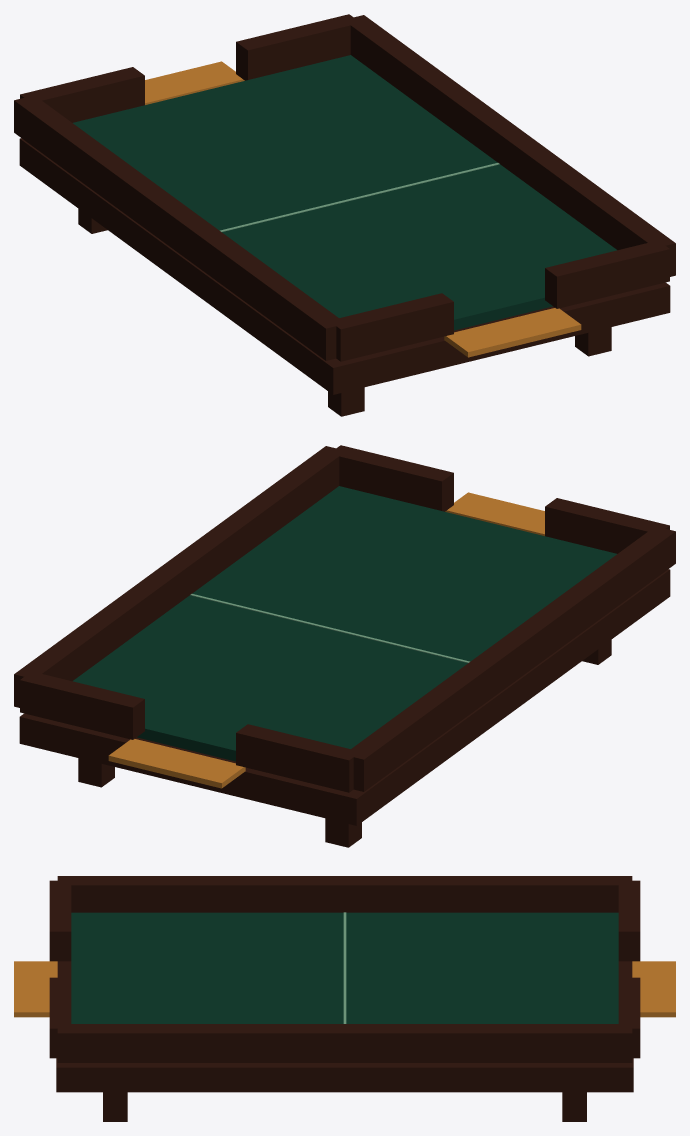
The model's file is FeltHockeyTable.obj.
3 views of the same model, one above another, from view 1: azimuth 30°, elevation 25°; view 2: azimuth 150°, elevation 25°; view 3: azimuth 270°, elevation 25° (orthographic). The views are drawn at different scales.
Parts seen in each view (by area): view 1: Felt_playing_surface, Long_cushioned_rail, Split_goal_rail, Walnut_cabinet, Goal_tray, Tapered_table_leg, Centre_stripe; view 2: Felt_playing_surface, Long_cushioned_rail, Split_goal_rail, Walnut_cabinet, Goal_tray, Tapered_table_leg, Centre_stripe; view 3: Felt_playing_surface, Long_cushioned_rail, Walnut_cabinet, Split_goal_rail, Goal_tray, Tapered_table_leg, Centre_stripe.
Boxes of the visible parts, box(x1,y1,x2,y2) form: Felt_playing_surface: box(73, 55, 616, 330); Long_cushioned_rail: box(14, 15, 675, 360); Split_goal_rail: box(20, 14, 669, 361); Walnut_cabinet: box(19, 138, 670, 394); Goal_tray: box(145, 61, 581, 357); Tapered_table_leg: box(78, 208, 611, 416); Centre_stripe: box(220, 163, 499, 231); Felt_playing_surface: box(73, 486, 616, 761); Long_cushioned_rail: box(14, 446, 675, 791); Split_goal_rail: box(20, 445, 669, 792); Walnut_cabinet: box(19, 569, 670, 825); Goal_tray: box(108, 492, 544, 788); Tapered_table_leg: box(78, 639, 611, 847); Centre_stripe: box(190, 594, 469, 662); Felt_playing_surface: box(71, 912, 618, 1023); Long_cushioned_rail: box(57, 876, 632, 1062); Walnut_cabinet: box(56, 961, 633, 1092); Split_goal_rail: box(49, 880, 640, 1058); Goal_tray: box(14, 961, 675, 1017); Tapered_table_leg: box(103, 1092, 586, 1121); Centre_stripe: box(343, 912, 346, 1023).
Bounding box in the file's own units: 6.8 × 2.15 × 12.1.
